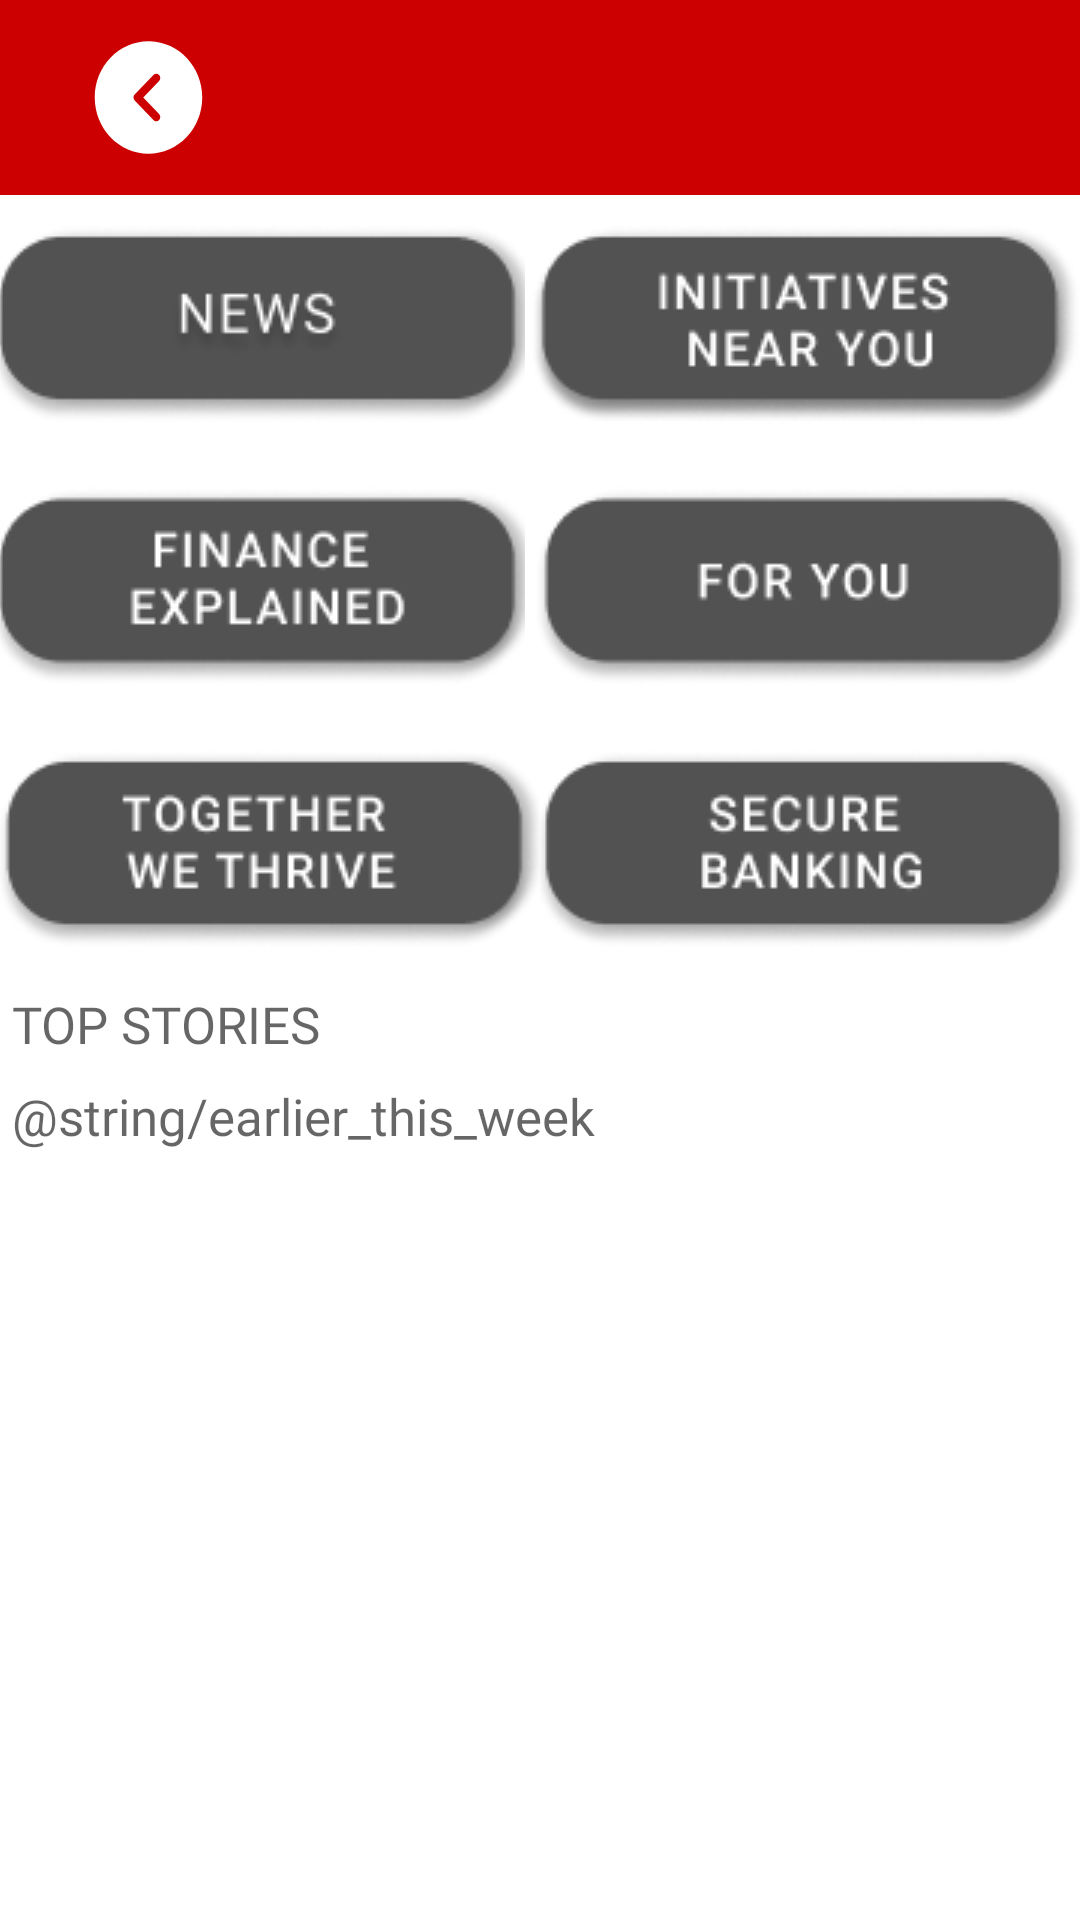

Screen size 1080*1920. Icon name, then its center in pixels as (x=x, y=y):
arrow left circle: (x=148, y=97)
